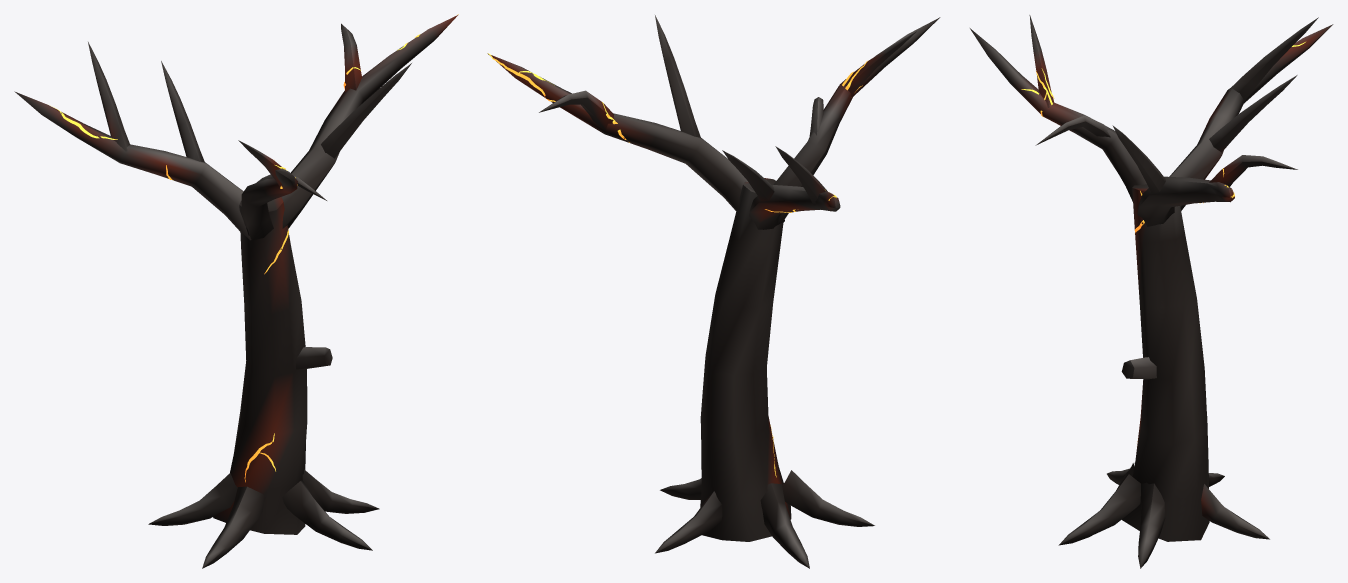
File: dead_tree.glb
3 renders of one model, left to right at view 1: azimuth 30°, elevation 25°; view 2: azimuth 150°, elevation 25°; view 3: azimuth 270°, elevation 25°, orthographic.
Parts seen in each view (by area): view 1: dead_tree; view 2: dead_tree; view 3: dead_tree.
Part boxes in pixels (x1,y1,x2,y2): dead_tree: (14, 14, 458, 568); dead_tree: (487, 15, 940, 568); dead_tree: (970, 15, 1333, 568).
Bounding box in the file's own units: 4.16 × 4.68 × 3.34.
